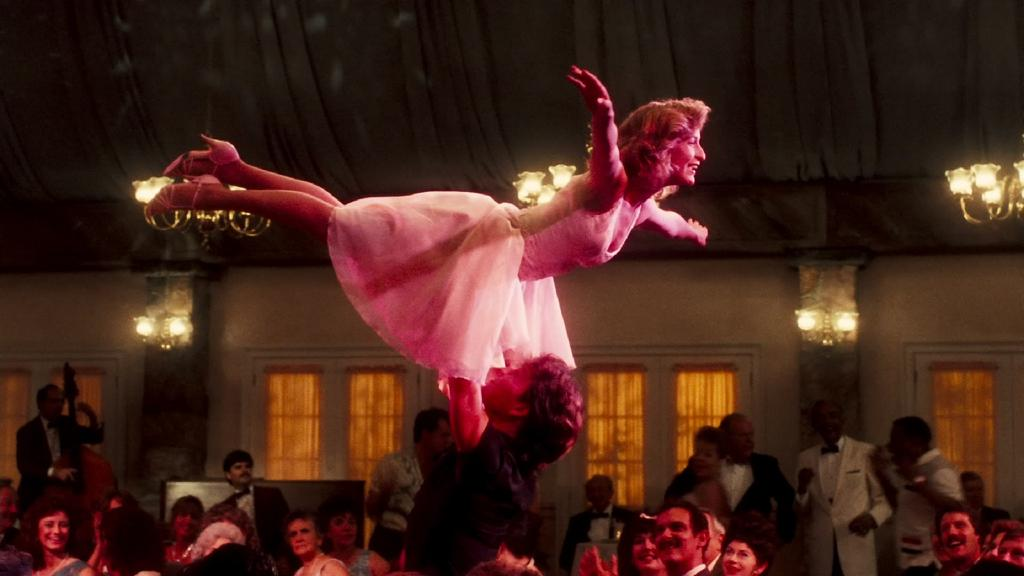face: (664, 122, 706, 183), (477, 361, 534, 402), (657, 511, 697, 560), (939, 513, 974, 557), (631, 528, 665, 566), (39, 511, 70, 549), (722, 541, 753, 574), (332, 511, 358, 549), (288, 520, 316, 555), (998, 539, 1024, 576), (429, 418, 452, 454), (695, 443, 718, 473), (172, 507, 195, 535), (229, 456, 251, 484), (44, 387, 63, 418), (590, 478, 611, 505)
